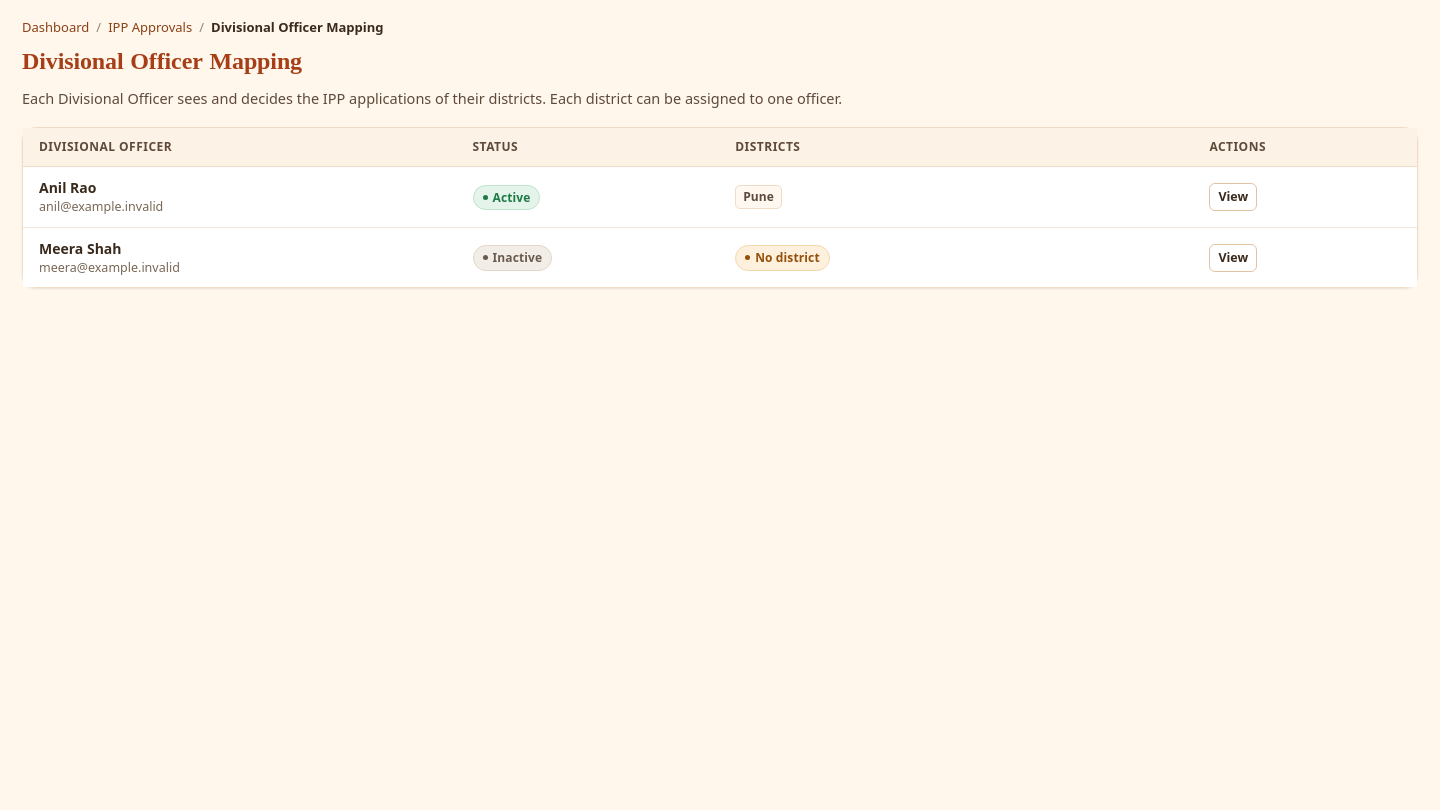
Test: Divisional Officer Mapping › View › shows the officer read-only from the list, without reading the account when users.view is missing
Click the button named "View Anil Rao" at (1233,197), box 1209,183 -> 1257,211
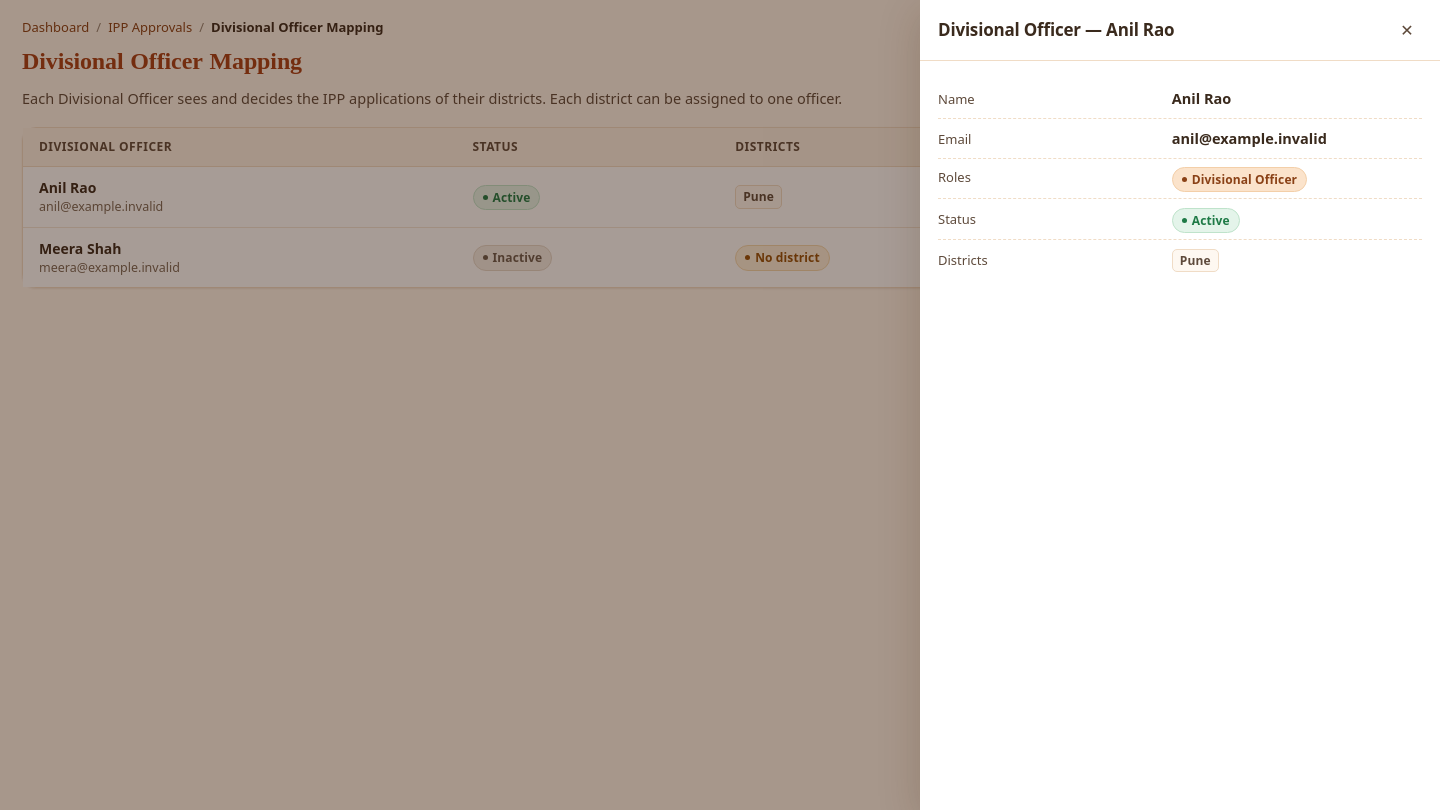
Click the button "✕" at (1407,30), box 1392,15 -> 1422,45
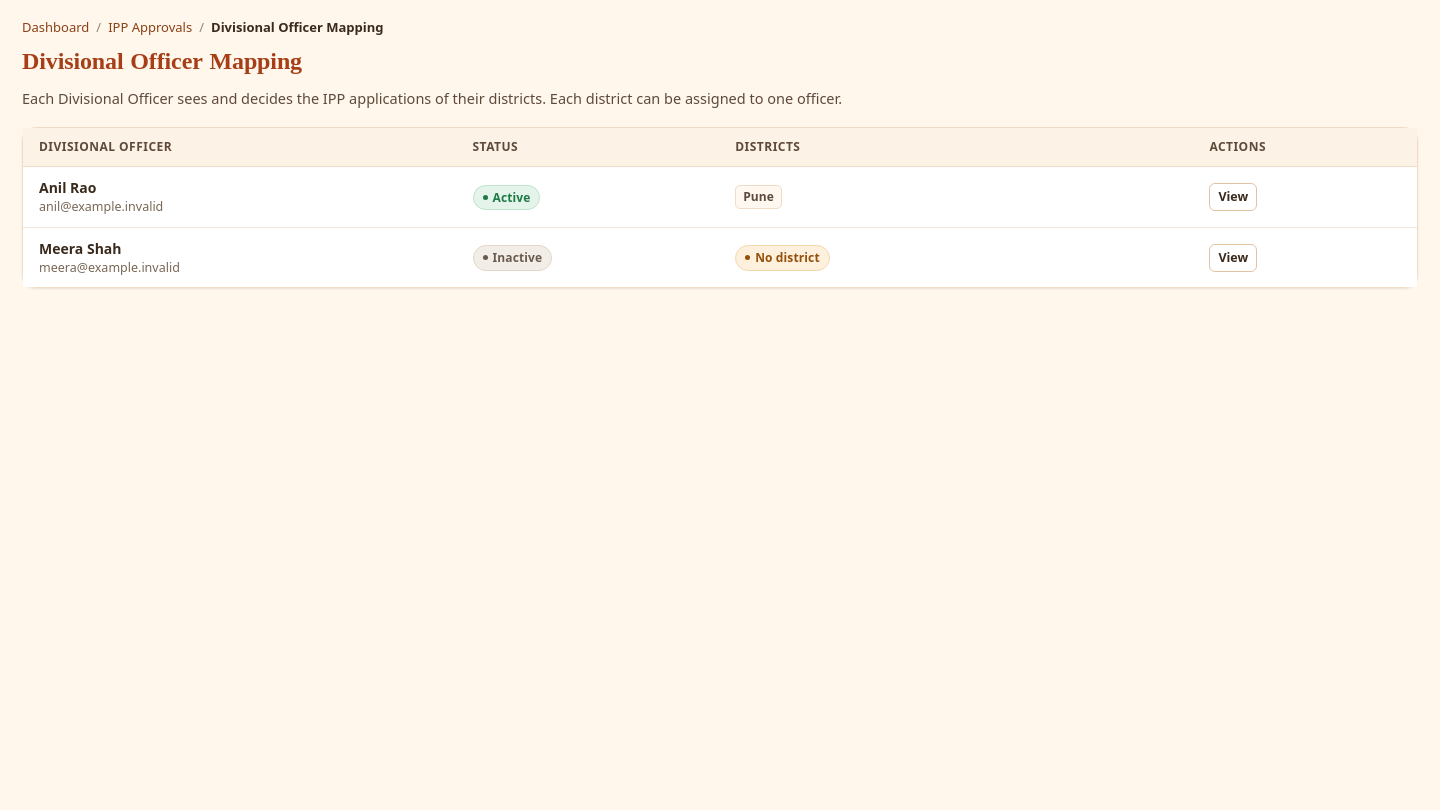
expect the heading "Divisional Officer — " is gone: met
